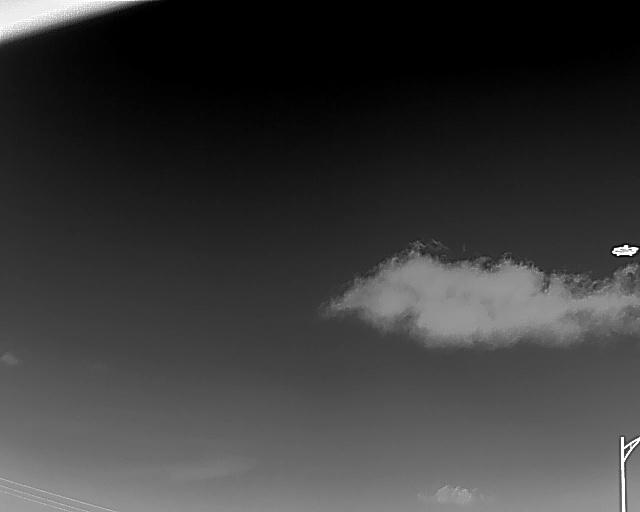fpv-drone: (611, 244, 639, 256)
